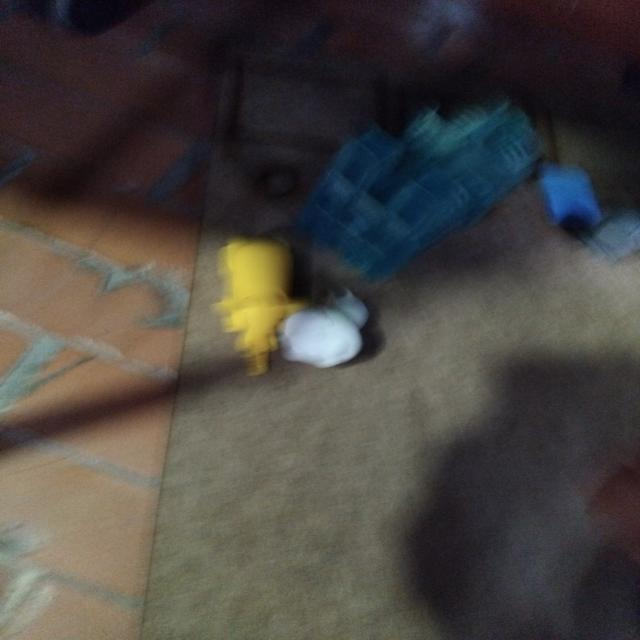Hongo: (277, 301, 370, 373)
